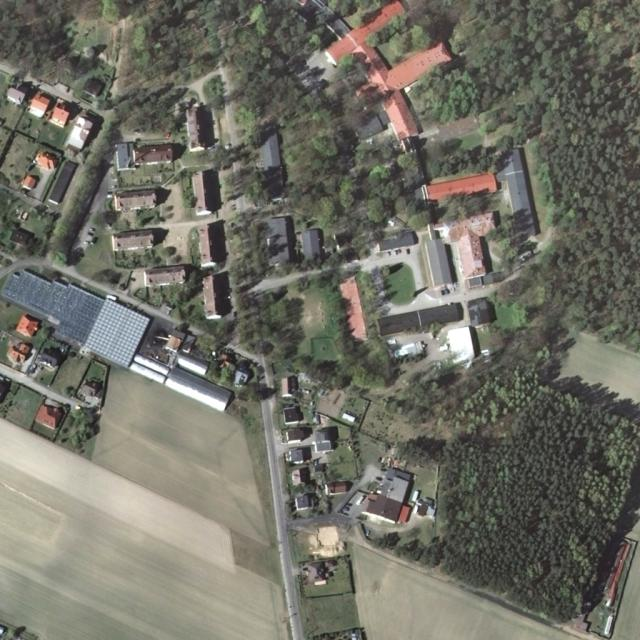agricultural_land: (0, 420, 280, 640), (71, 359, 311, 547)
building: (0, 254, 154, 371), (111, 219, 233, 310), (404, 210, 511, 299), (357, 556, 448, 640), (0, 372, 72, 444), (417, 165, 499, 209), (378, 301, 464, 336), (112, 183, 175, 218), (115, 144, 184, 173), (187, 168, 222, 217), (201, 272, 232, 318), (187, 104, 216, 152), (377, 231, 418, 254), (41, 342, 71, 371)
greenland: (0, 0, 74, 77)
metalled_road: (260, 356, 272, 386)
